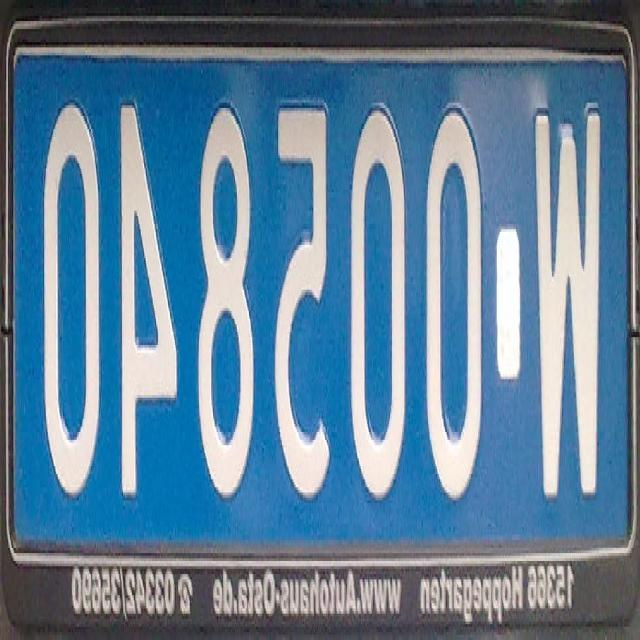pl_license_plate: (12, 42, 629, 548)
